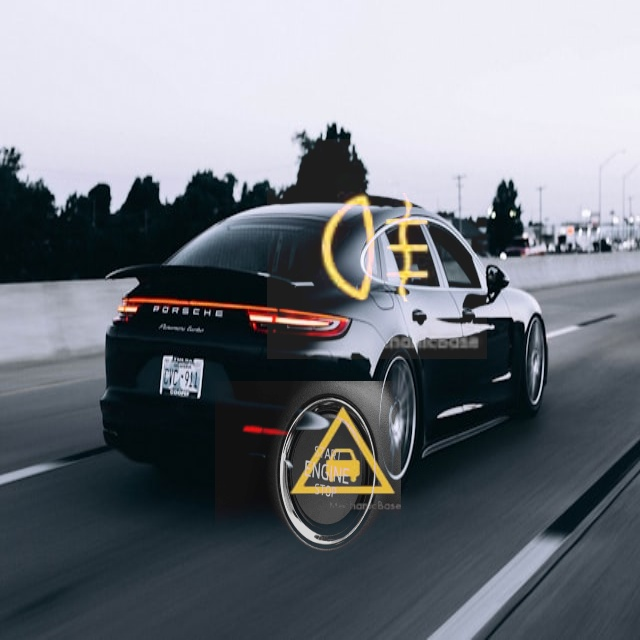symbol: (267, 139, 487, 359), (215, 381, 401, 567), (279, 389, 406, 516)
